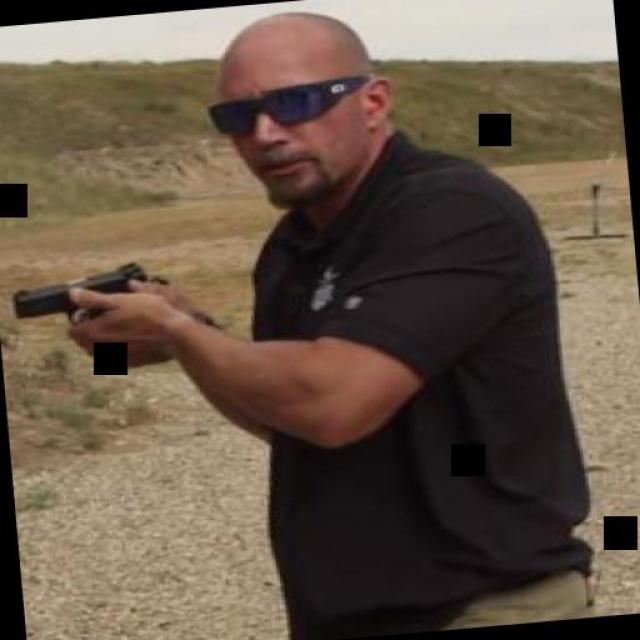gun: (6, 258, 170, 372)
